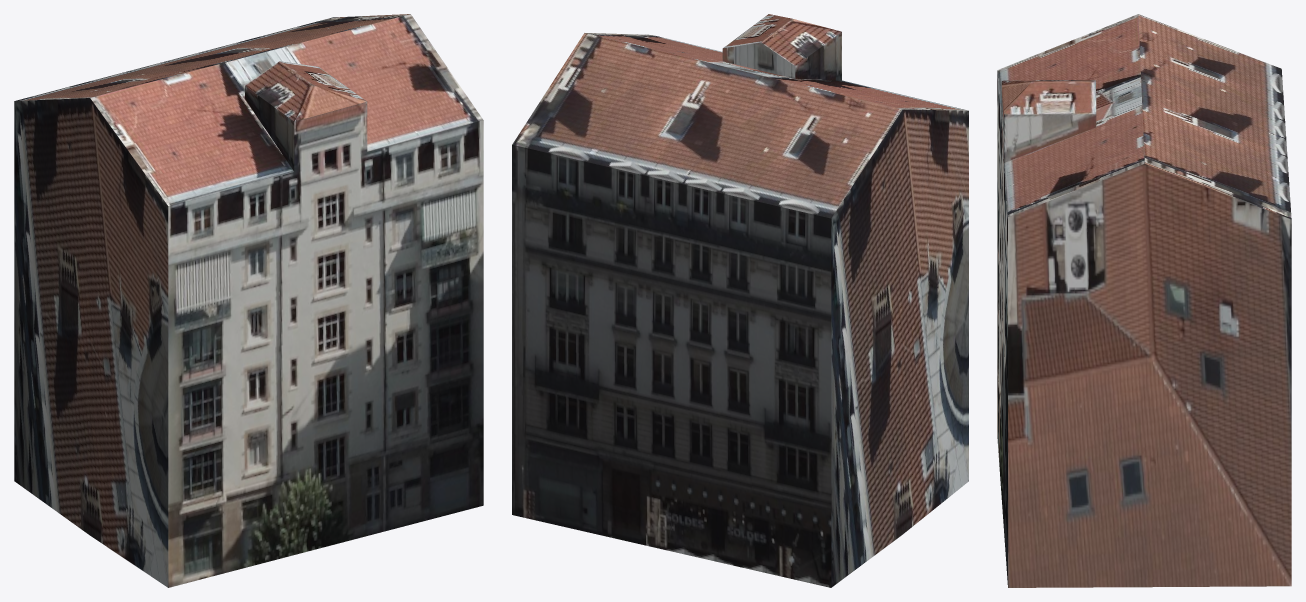
3 renders of one model, left to right at view 1: azimuth 30°, elevation 25°; view 2: azimuth 150°, elevation 25°; view 3: azimuth 270°, elevation 25°, orthographic. The views are drawn at different scales.
Parts seen in each view (by area): view 1: Z_UP; view 2: Z_UP; view 3: Z_UP.
Boxes of the visible parts, x1=… form: Z_UP: x1=14, y1=14, x2=483, y2=587; Z_UP: x1=512, y1=14, x2=968, y2=587; Z_UP: x1=997, y1=14, x2=1291, y2=587.
Bounding box in the file's own units: 20.63 × 27.12 × 16.72.
2 materials, 1 textured.
